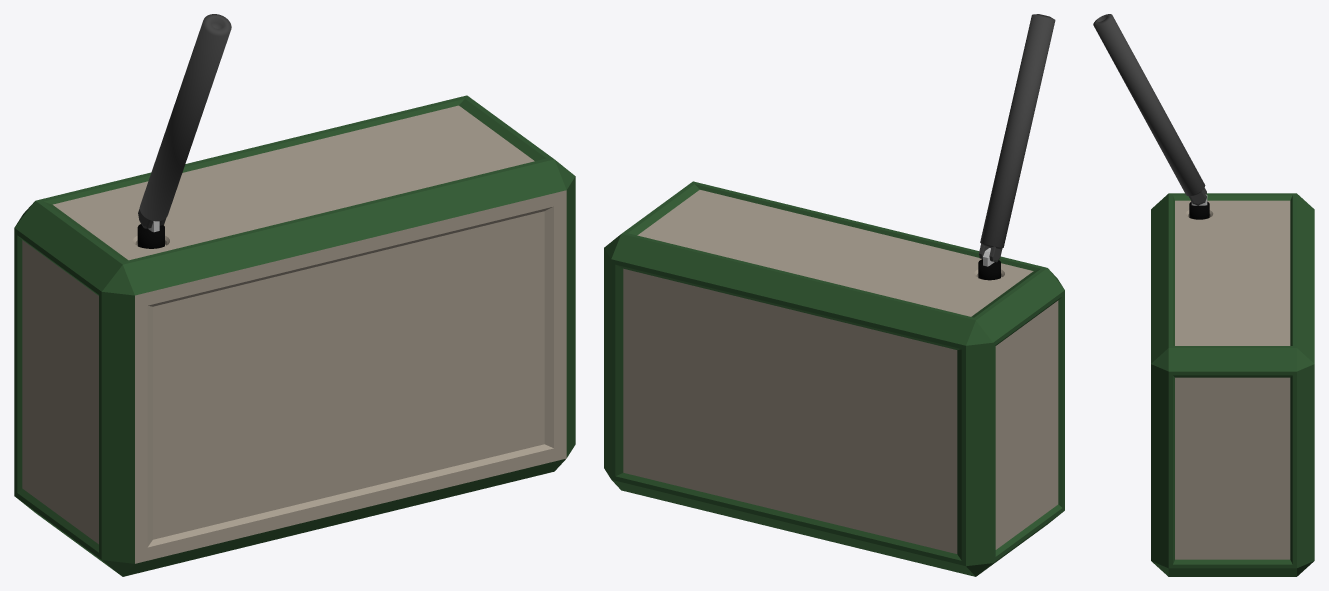
Rendered from hero.glb.
3 renders of one model, left to right at view 1: azimuth 30°, elevation 25°; view 2: azimuth 150°, elevation 25°; view 3: azimuth 270°, elevation 25°, orthographic. The views are drawn at different scales.
Visible parts, largest first — view 1: Cube, Cylinder.001; view 2: Cube, Cylinder.001; view 3: Cube, Cylinder.001, Cylinder.
Boxes of the visible parts, bbox=[...] form: Cube: bbox=[14, 95, 575, 576]; Cylinder.001: bbox=[138, 14, 231, 228]; Cube: bbox=[604, 181, 1064, 576]; Cylinder.001: bbox=[979, 14, 1055, 262]; Cube: bbox=[1151, 193, 1314, 576]; Cylinder.001: bbox=[1093, 14, 1206, 205]; Cylinder: bbox=[1189, 201, 1209, 219].
Bounding box in the file's own units: 2 × 2.33 × 1.1.
